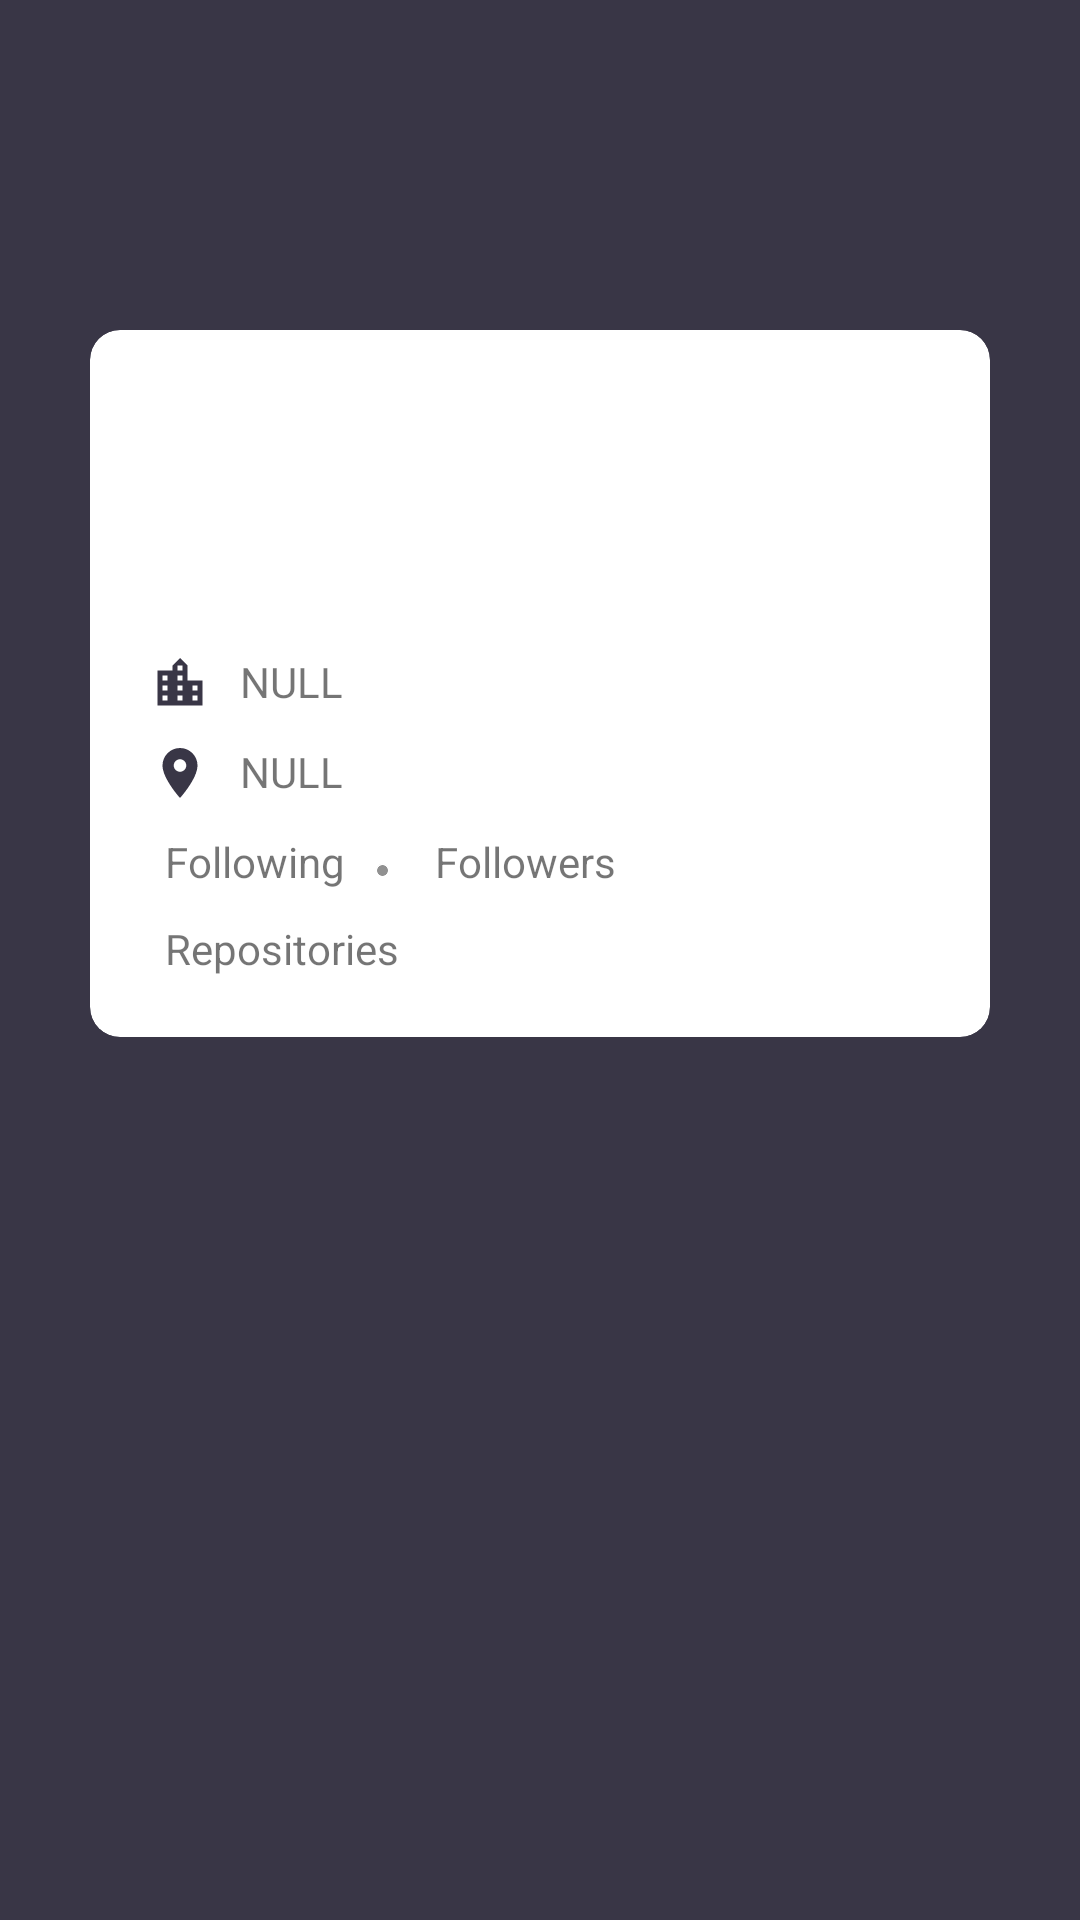

Named icons in this screenshot (1080x1920) and their centers, (x,y):
Location: (180,773)
Work in: (180,682)
